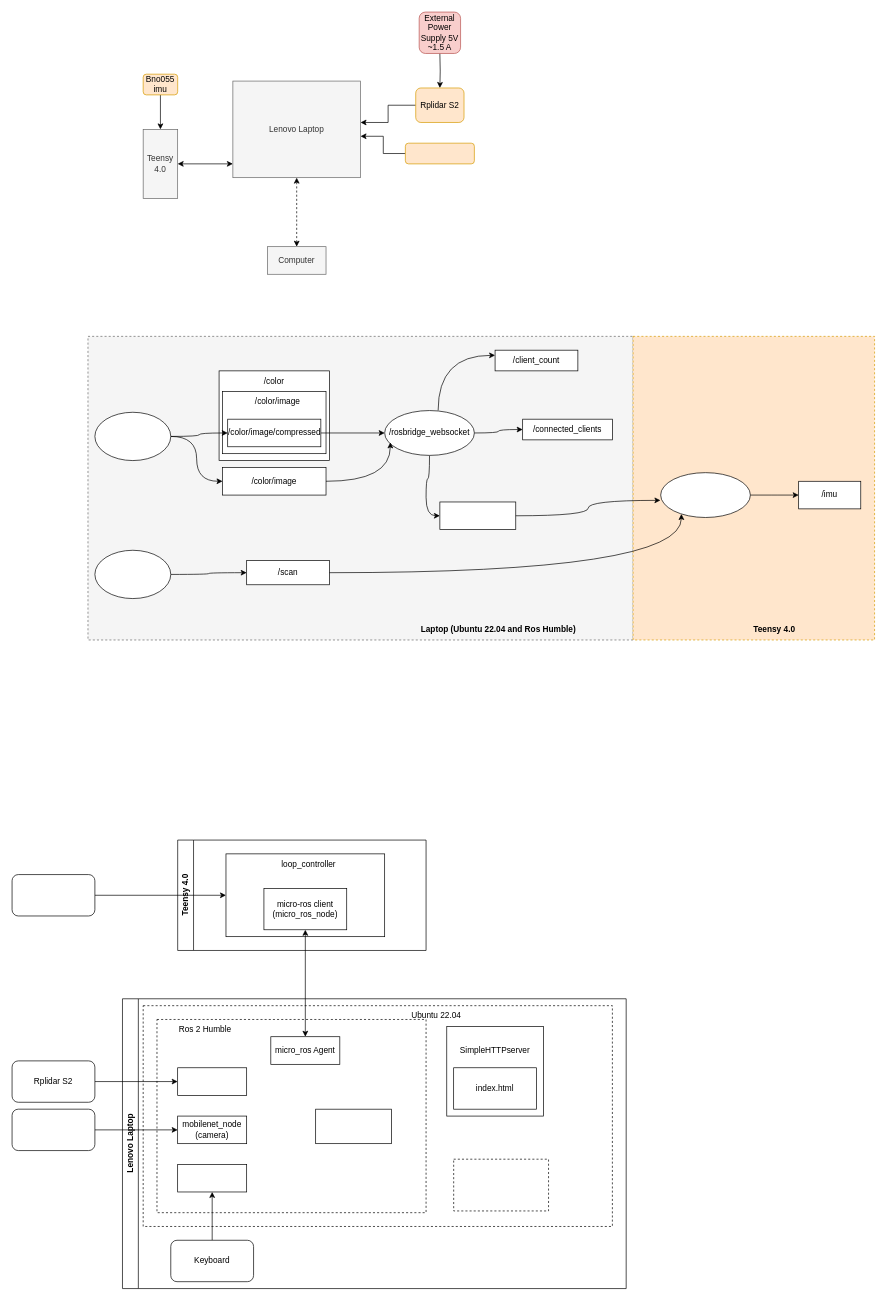
Image size: 887x1301. Some labels were removed from this diagram. Each missing label, with the centre of its shape:
"/micro_ros_node" belongs at (x=705, y=495).
"/mobilenet_node" belongs at (x=132, y=436).
"/sllidar_node" belongs at (x=132, y=574).
"/userinput" belongs at (x=477, y=515).
"Firefox webbrowser" belongs at (x=501, y=1185).
"IMU BNO055" belongs at (x=53, y=895).
"keyboard_input node" belongs at (x=212, y=1178).
"Oak D Lite Camera" belongs at (x=439, y=153).
"Oak-D-Lite" belongs at (x=53, y=1129).
"rosbridge_server" belongs at (x=353, y=1126).
"sllidar node" belongs at (x=212, y=1081).
